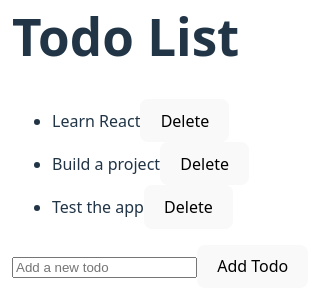
Test case: can delete a todo
The image size is (332, 295).
Click the button "Delete" next to "Learn React".
click(185, 121)  # box x1=140 y1=99 x2=230 y2=142
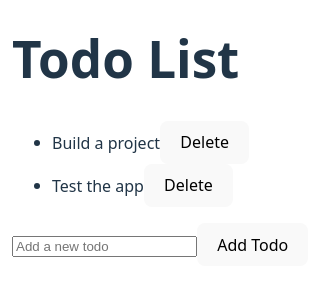
Now the list item "Learn React" is gone
